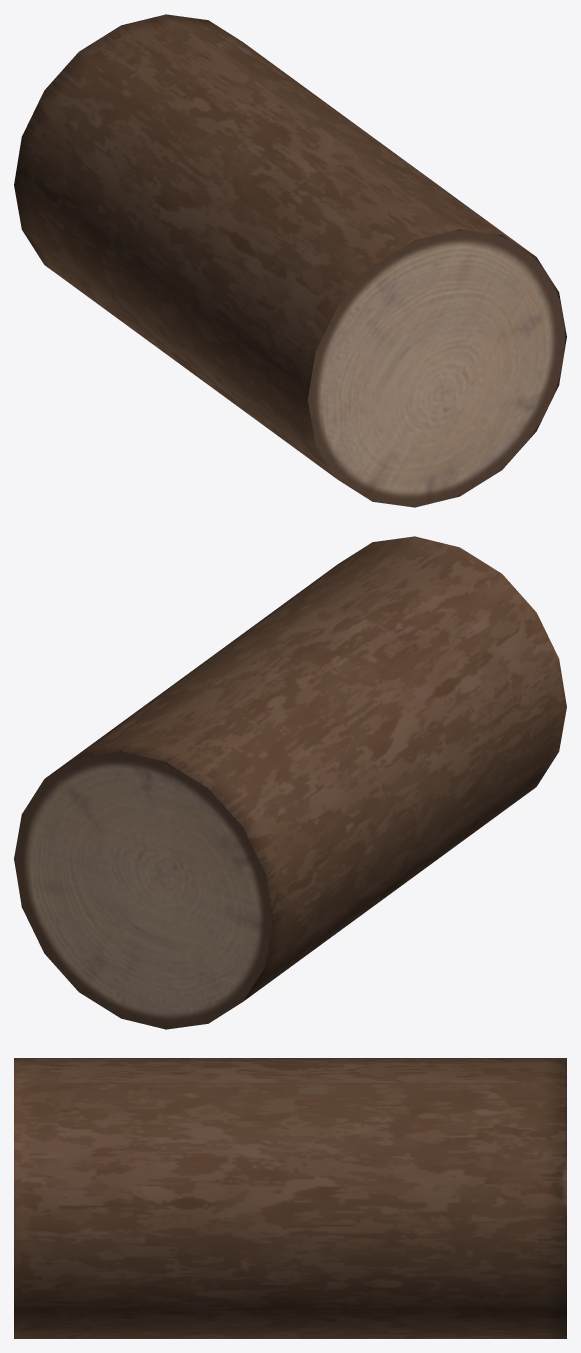
File: treebox_3.FBX
The picture shows the model from 3 angles, top to bottom: view 1: azimuth 30°, elevation 25°; view 2: azimuth 150°, elevation 25°; view 3: azimuth 270°, elevation 25°; orthographic projection. The views are drawn at different scales.
Visible parts, largest first — view 1: Cylinder001; view 2: Cylinder001; view 3: Cylinder001.
Boxes of the visible parts, x1=… form: Cylinder001: x1=14, y1=14, x2=566, y2=507; Cylinder001: x1=14, y1=536, x2=566, y2=1029; Cylinder001: x1=14, y1=1058, x2=566, y2=1338.
Bounding box in the file's own units: 15.96 × 15.72 × 31.32.
